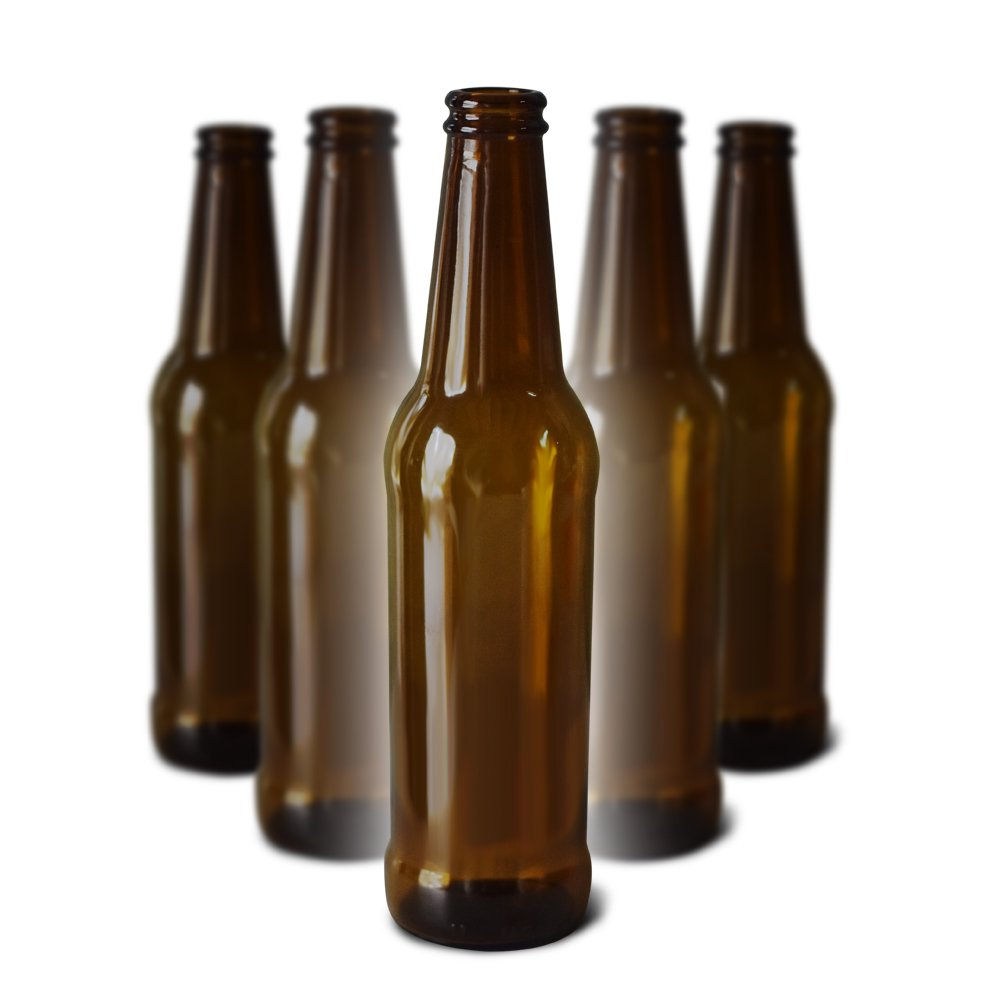glass_bottle: (108, 63, 916, 964)
